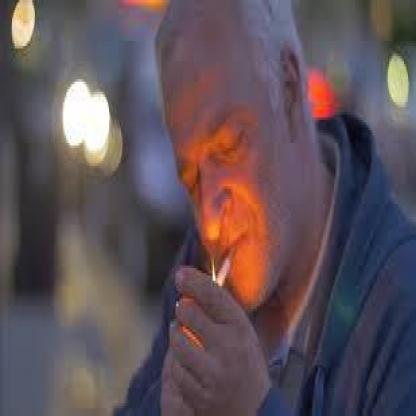fire: (200, 233, 221, 290)
other: (5, 0, 140, 222), (373, 36, 412, 130), (303, 58, 340, 130)
